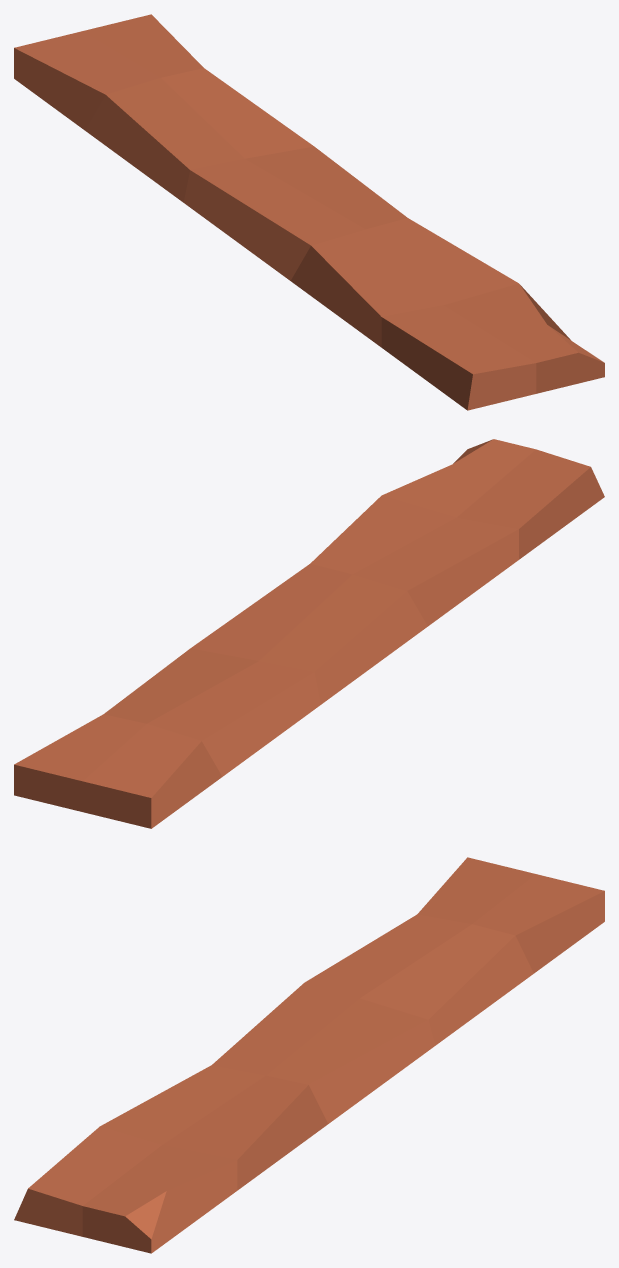
Rendered from WoodenPlank3.fbx.
3 views of the same model, one above another, from view 1: azimuth 30°, elevation 25°; view 2: azimuth 150°, elevation 25°; view 3: azimuth 330°, elevation 25° (orthographic).
Parts seen in each view (by area): view 1: Plank3; view 2: Plank3; view 3: Plank3.
Part boxes in pixels (bbox=[...]): Plank3: bbox=[14, 14, 604, 410]; Plank3: bbox=[14, 439, 604, 828]; Plank3: bbox=[14, 857, 604, 1253].
Bounding box in the file's own units: 140 × 33.63 × 800.
